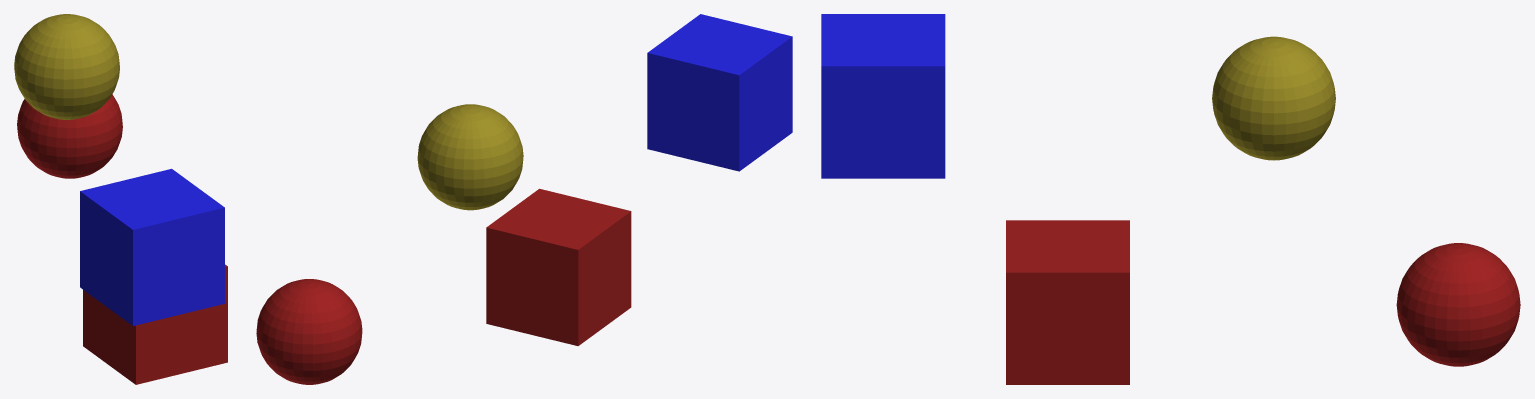
The model's file is materials--colour.gltf.
The picture shows the model from 3 angles, left to right: view 1: azimuth 30°, elevation 25°; view 2: azimuth 150°, elevation 25°; view 3: azimuth 270°, elevation 25°; orthographic projection. The views are drawn at different scales.
Visible parts, largest first — view 1: Cube.001, Sphere.001, Cube, Sphere; view 2: Cube.001, Cube, Sphere.001, Sphere; view 3: Cube.001, Cube, Sphere.001, Sphere.
Boxes of the visible parts, x1,y1,x2,y2 form: Cube.001: (80, 168, 224, 325); Sphere.001: (14, 14, 119, 119); Cube: (83, 264, 227, 384); Sphere: (17, 94, 122, 178); Cube.001: (647, 14, 792, 171); Cube: (486, 188, 631, 345); Sphere.001: (417, 104, 523, 210); Sphere: (256, 279, 362, 384); Cube.001: (821, 14, 945, 178); Cube: (1006, 220, 1129, 384); Sphere.001: (1212, 36, 1335, 160); Sphere: (1396, 243, 1520, 366).
Size of the model in its own units: 5.56 by 5.63 by 11.28.
